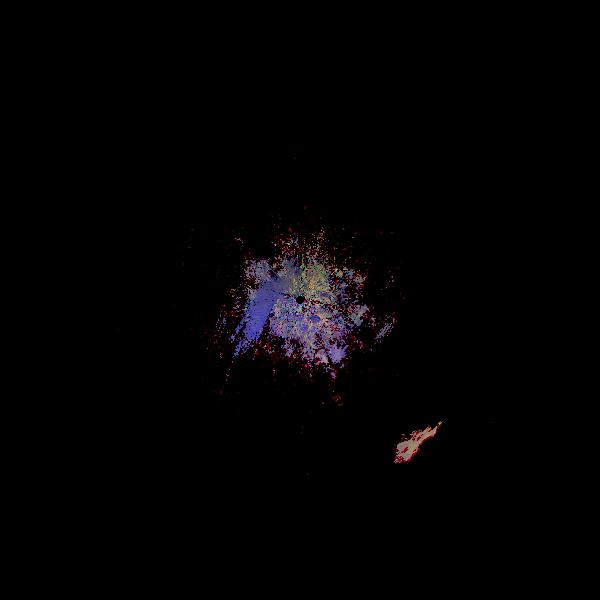roost: (383, 410, 503, 530)
